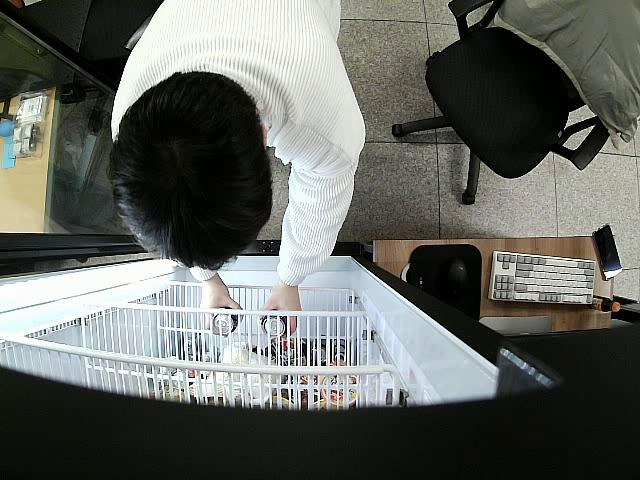00_hand: (258, 291, 301, 342), (201, 287, 243, 338)
14_welchsGrape: (261, 310, 288, 340), (211, 311, 239, 339)
